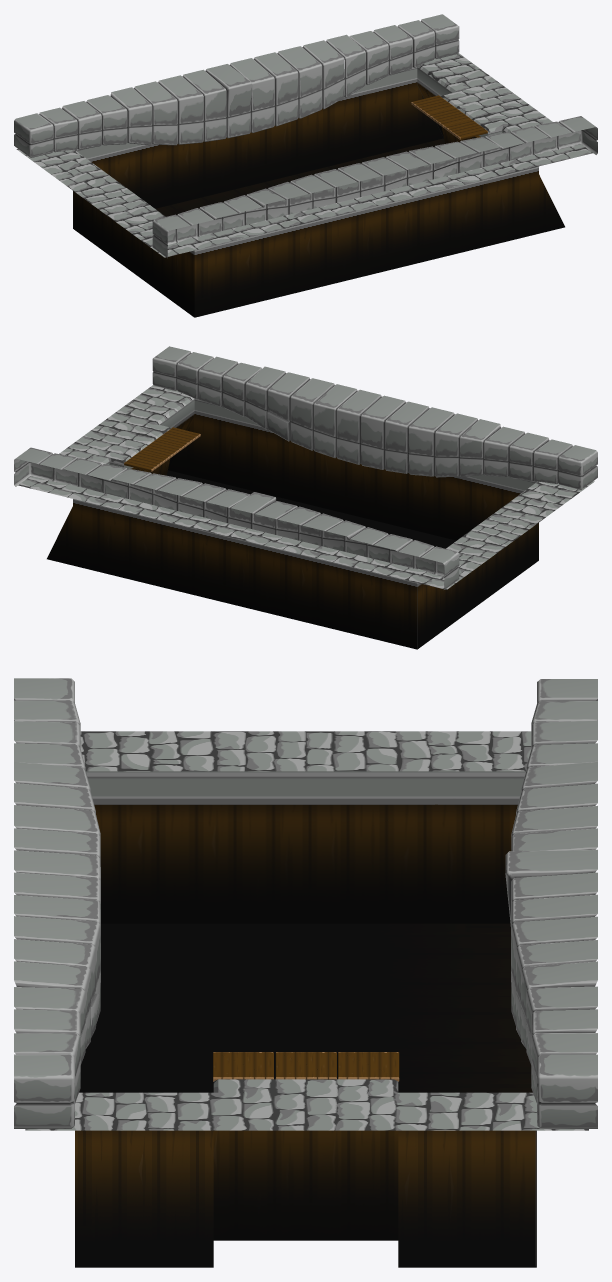
The model's file is mod_med_her_part_a_08.fbx.
3 renders of one model, top to bottom at view 1: azimuth 30°, elevation 25°; view 2: azimuth 150°, elevation 25°; view 3: azimuth 270°, elevation 25°, orthographic. The views are drawn at different scales.
Parts seen in each view (by area): view 1: mod_med_her_part_a_08; view 2: mod_med_her_part_a_08; view 3: mod_med_her_part_a_08.
Boxes of the visible parts, left/top/right/bottom form: mod_med_her_part_a_08: left=14, top=14, right=597, bottom=317; mod_med_her_part_a_08: left=14, top=346, right=597, bottom=649; mod_med_her_part_a_08: left=14, top=678, right=597, bottom=1267.
Bounding box in the file's own units: 180 × 44.63 × 111.
